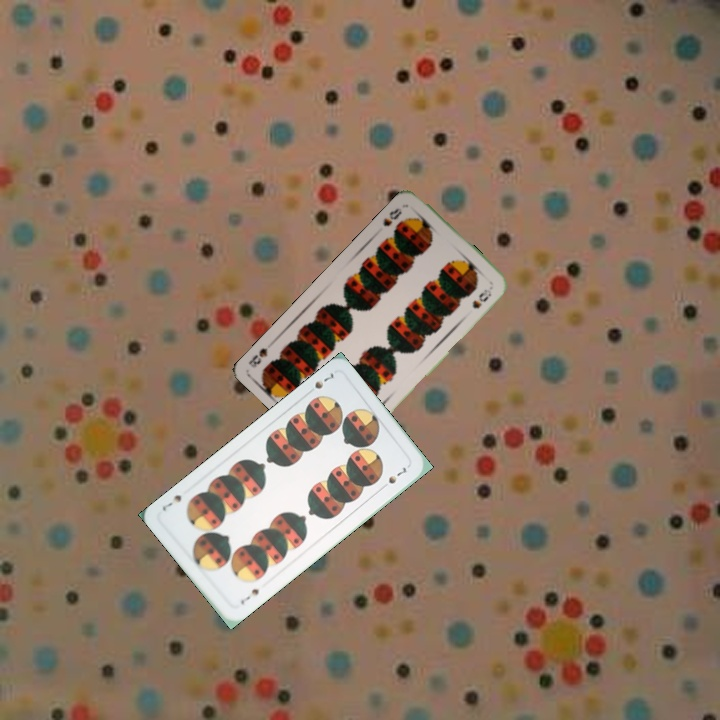S7: (236, 584, 262, 607), (311, 369, 336, 392)
S8: (379, 204, 404, 229)
